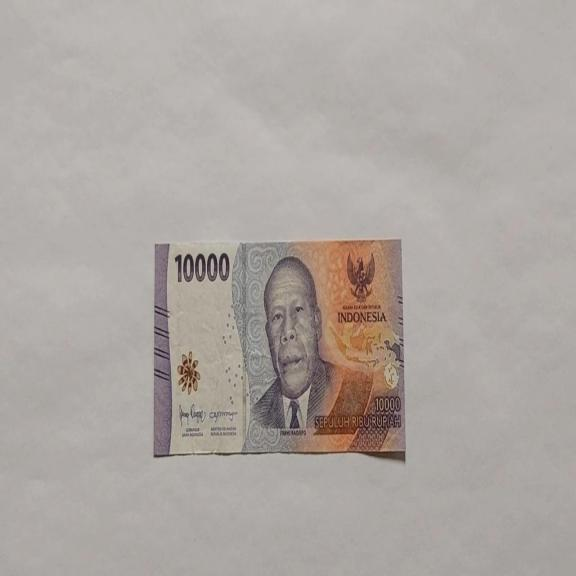Kertas: (153, 237, 406, 459), (174, 250, 230, 284)
